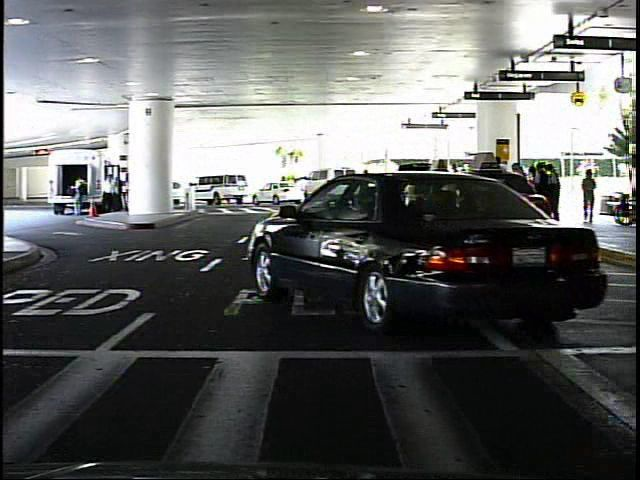person: (356, 165, 380, 220), (579, 167, 599, 226)
